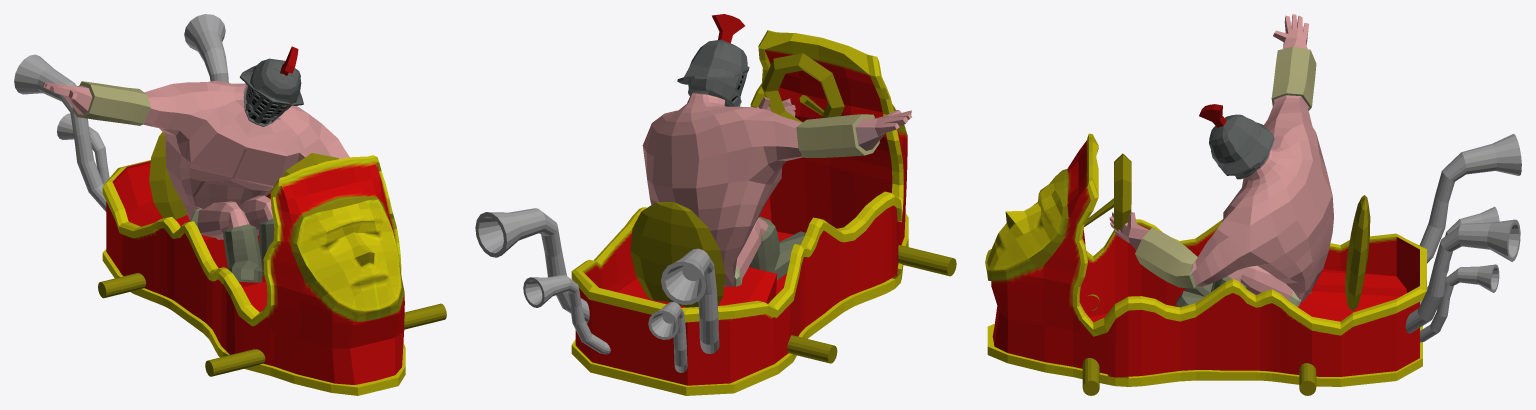
The model's file is gladiVacile_000542.obj.
3 renders of one model, left to right at view 1: azimuth 30°, elevation 25°; view 2: azimuth 150°, elevation 25°; view 3: azimuth 270°, elevation 25°, orthographic. The views are drawn at different scales.
Parts seen in each view (by area): view 1: GladiChasis_GladiChasisH, Gadiador_Gladiador_H.001, GladiTubos_GladiTubosH, GladiVolante_GladiVolanteH; view 2: GladiChasis_GladiChasisH, Gadiador_Gladiador_H.001, GladiTubos_GladiTubosH, GladiVolante_GladiVolanteH; view 3: GladiChasis_GladiChasisH, Gadiador_Gladiador_H.001, GladiTubos_GladiTubosH, GladiVolante_GladiVolanteH.
Boxes of the visible parts, x1=… form: GladiChasis_GladiChasisH: x1=102, y1=155, x2=405, y2=395; Gadiador_Gladiador_H.001: x1=42, y1=46, x2=349, y2=282; GladiTubos_GladiTubosH: x1=14, y1=14, x2=228, y2=211; GladiVolante_GladiVolanteH: x1=98, y1=132, x2=446, y2=376; GladiChasis_GladiChasisH: x1=571, y1=30, x2=908, y2=395; Gadiador_Gladiador_H.001: x1=642, y1=14, x2=911, y2=286; GladiTubos_GladiTubosH: x1=475, y1=208, x2=719, y2=372; GladiVolante_GladiVolanteH: x1=630, y1=53, x2=956, y2=363; GladiChasis_GladiChasisH: x1=985, y1=133, x2=1426, y2=386; Gadiador_Gladiador_H.001: x1=1109, y1=14, x2=1333, y2=307; GladiTubos_GladiTubosH: x1=1405, y1=134, x2=1521, y2=342; GladiVolante_GladiVolanteH: x1=1082, y1=153, x2=1370, y2=395.
Bounding box in the file's own units: 6.95 × 5.64 × 10.78.
